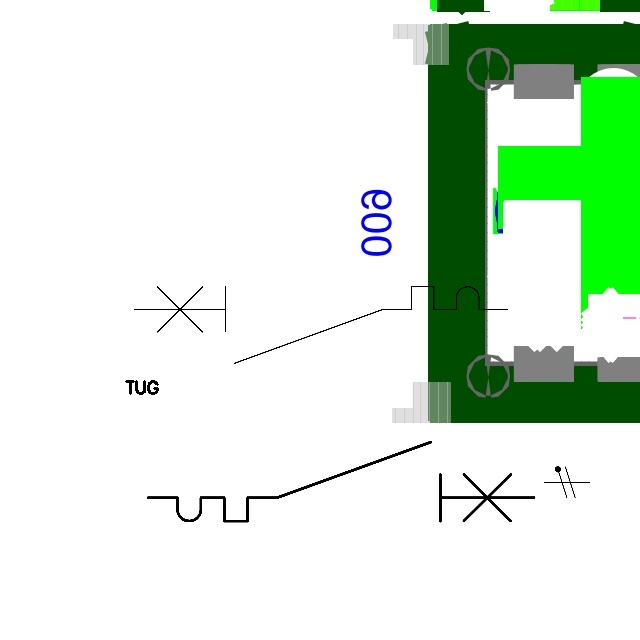interruptor_termomagnetico: (138, 432, 544, 531), (125, 277, 517, 373)
